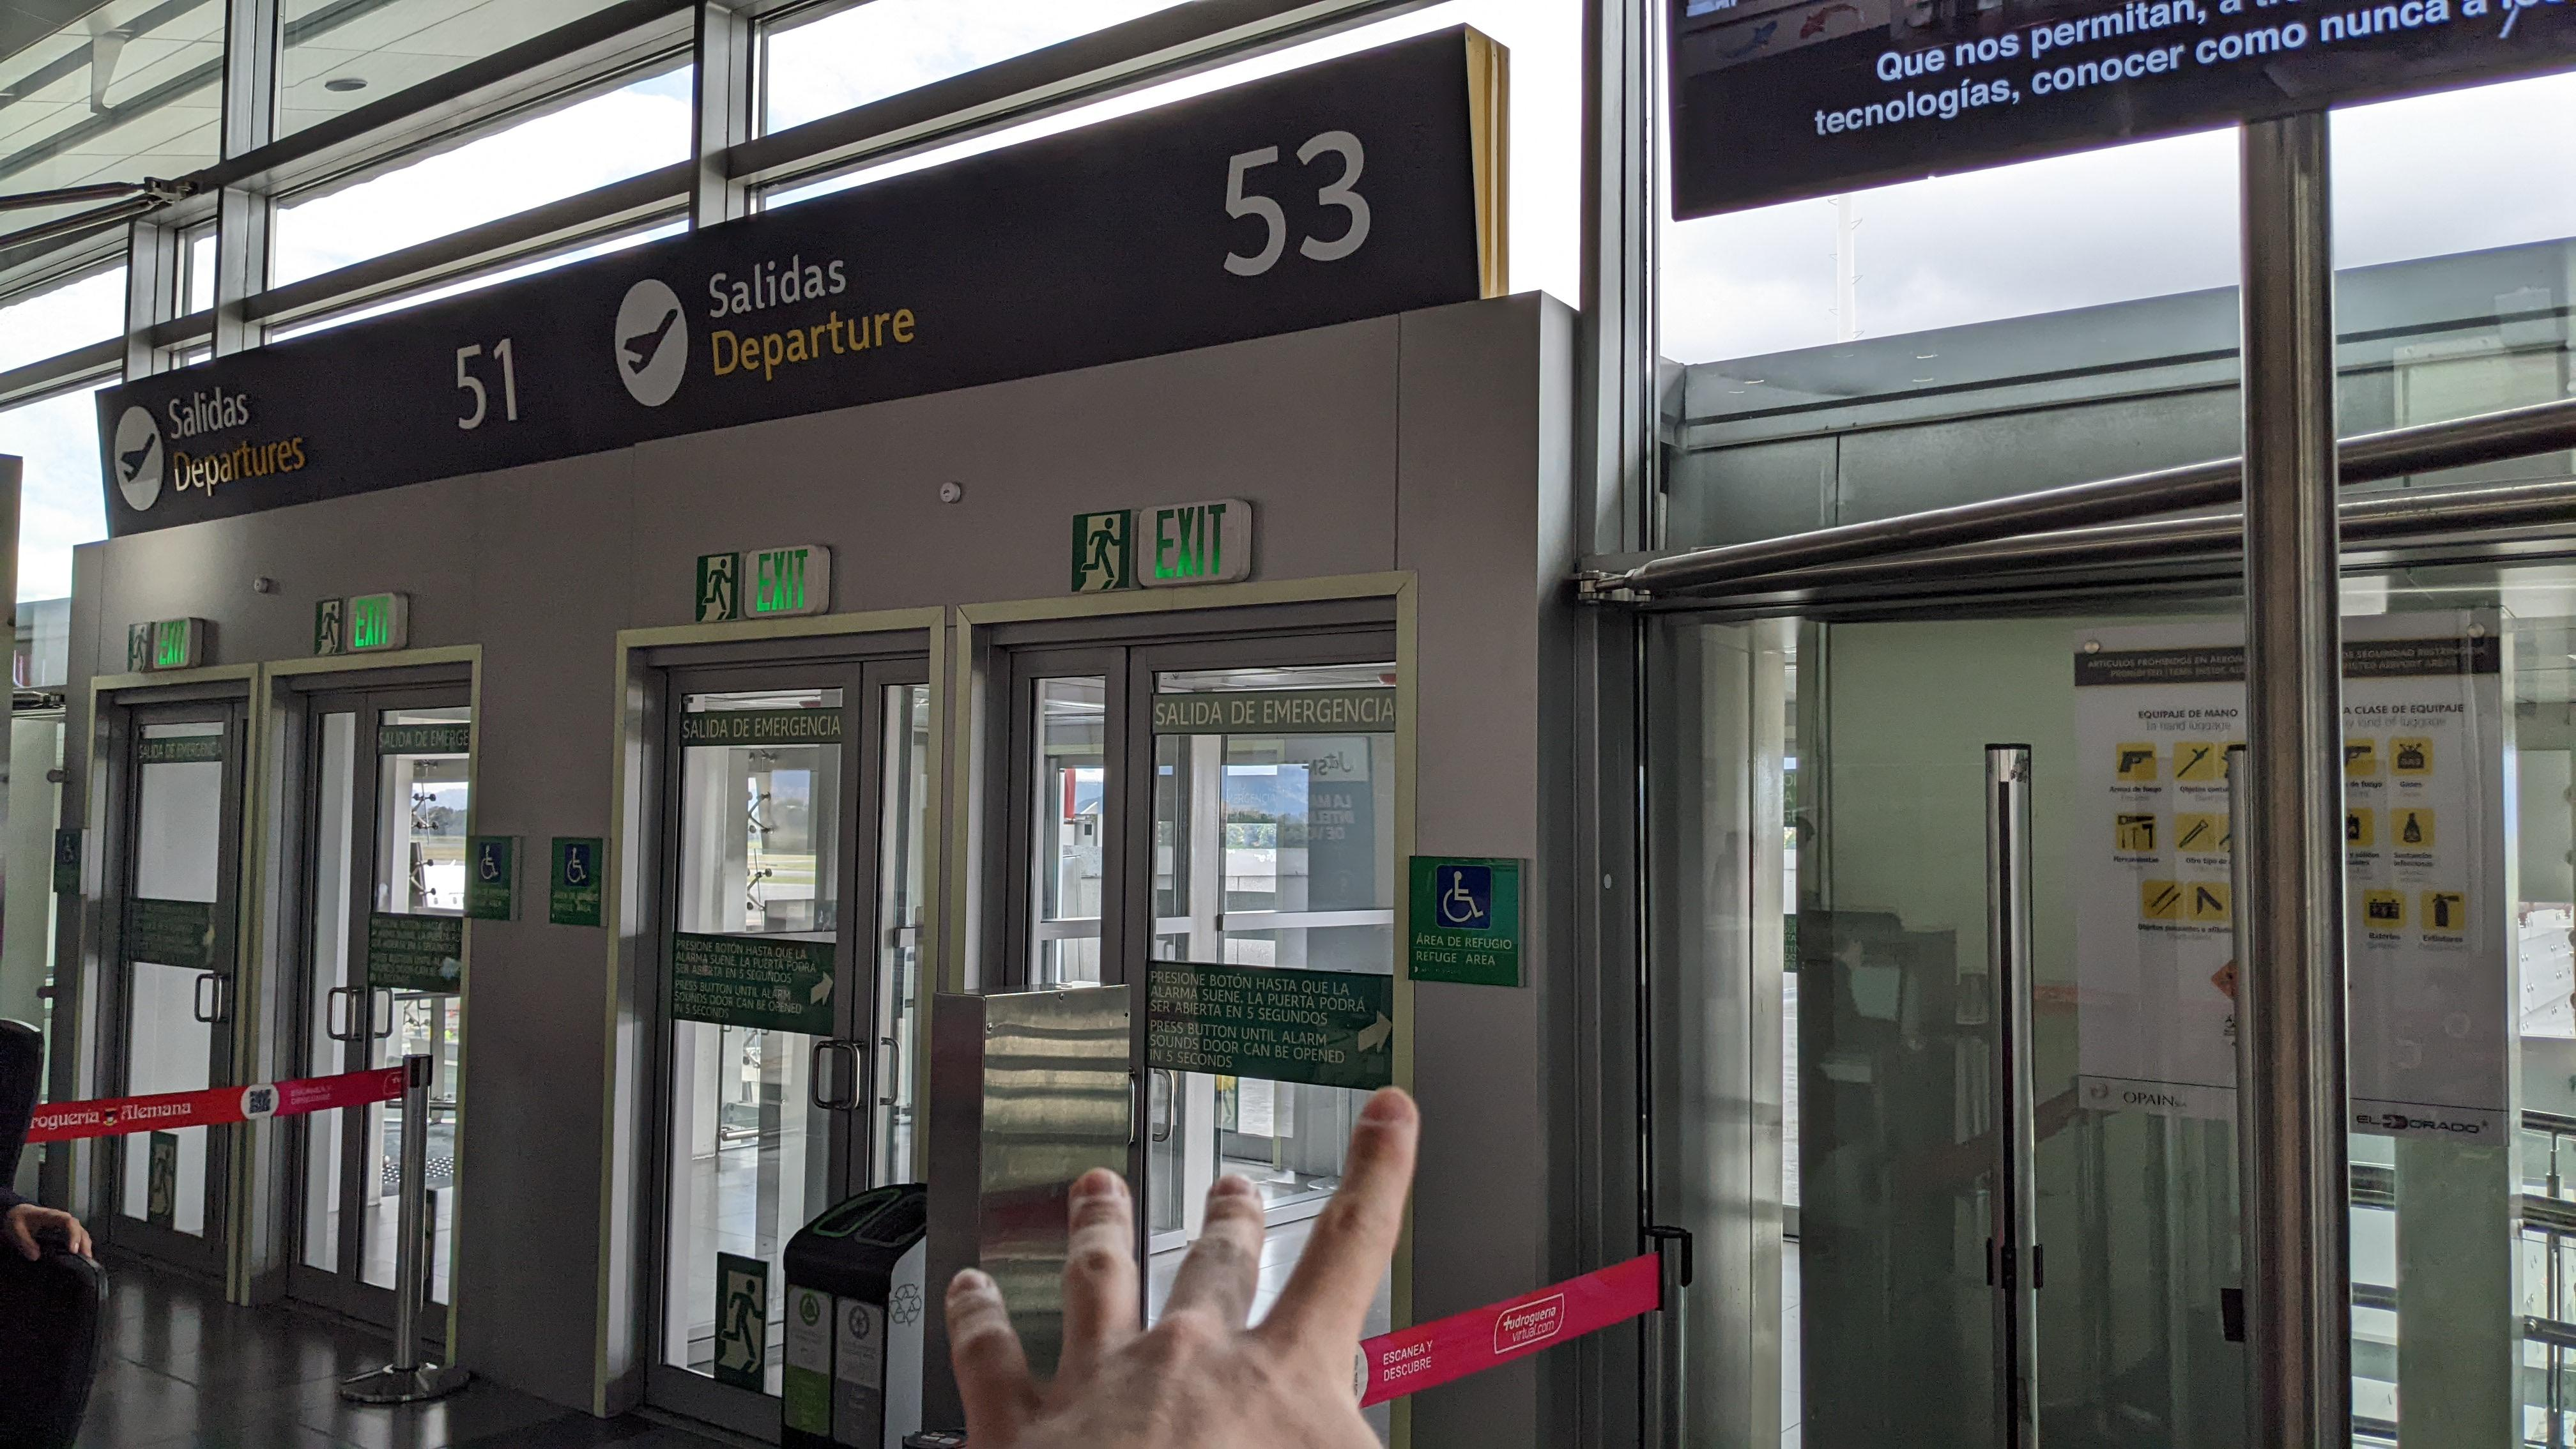airplane symbol: (617, 304, 681, 377), (119, 430, 161, 487)
emergency exit: (699, 554, 738, 623), (315, 600, 343, 655), (129, 623, 152, 672)
handicapped symbol: (1072, 515, 1129, 589), (1442, 870, 1486, 924), (564, 844, 589, 885), (479, 844, 501, 883)
